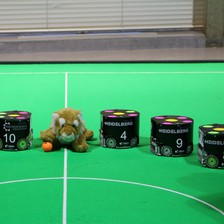ball: (40, 140, 53, 153)
robot: (147, 110, 196, 158), (95, 107, 143, 150), (1, 105, 34, 154), (195, 120, 224, 170)
